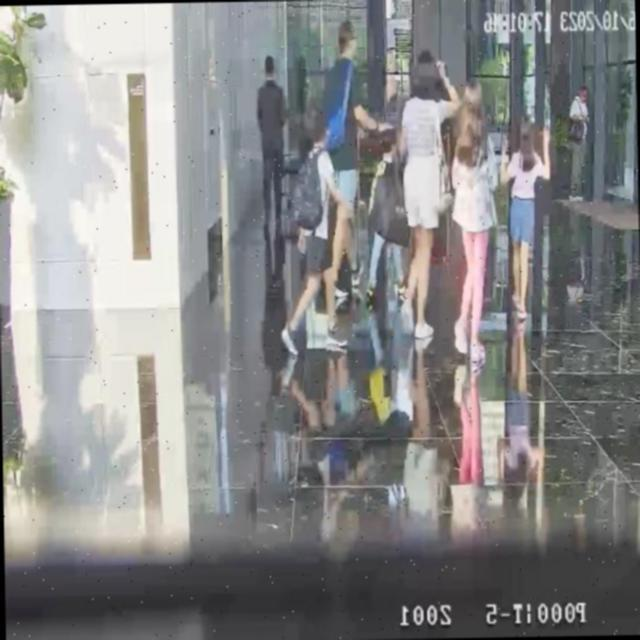person: (312, 19, 382, 289), (396, 48, 456, 346), (446, 79, 501, 364), (504, 117, 548, 320), (255, 56, 289, 252), (566, 84, 590, 200)
